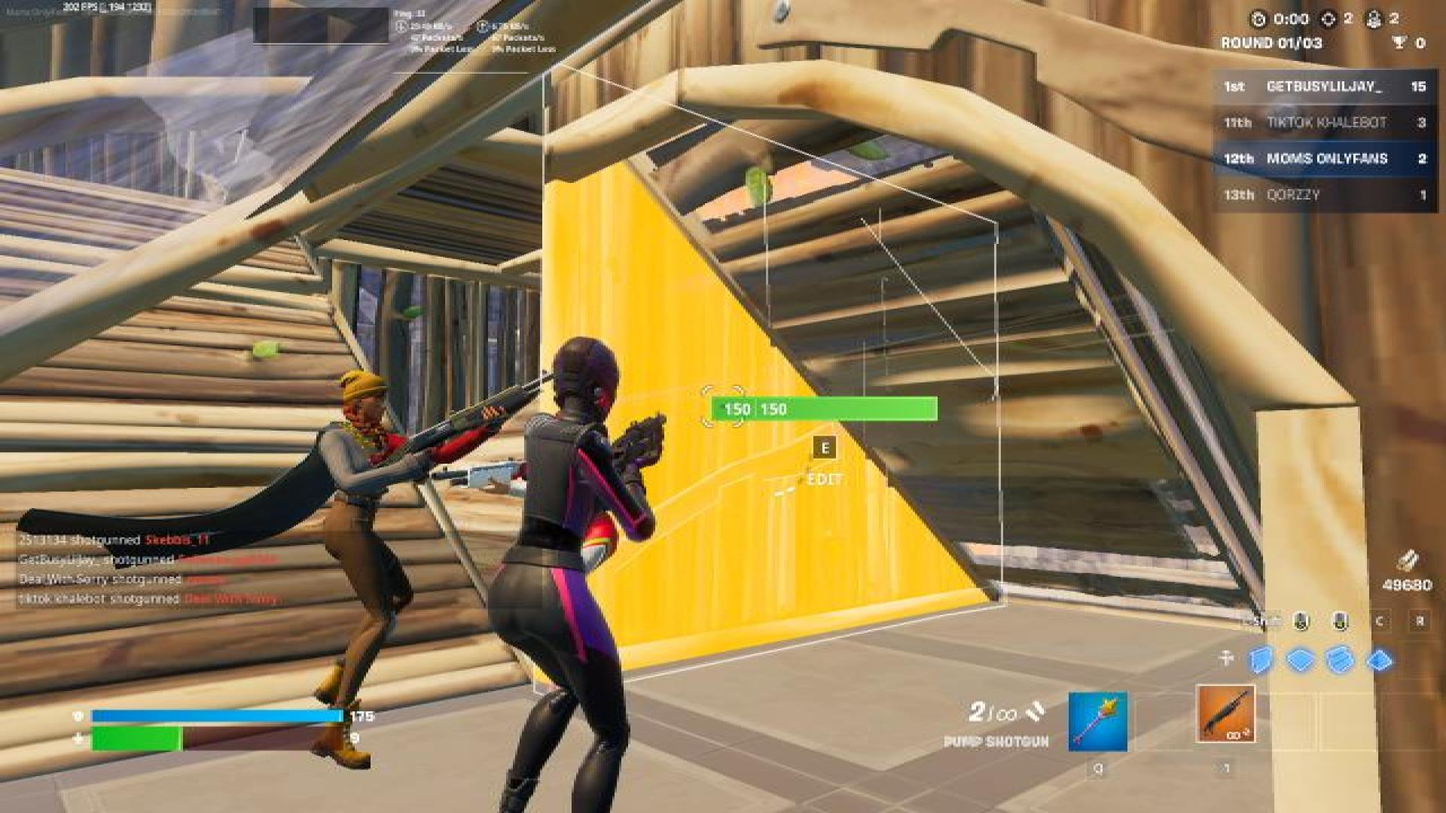player: (290, 372, 437, 772)
